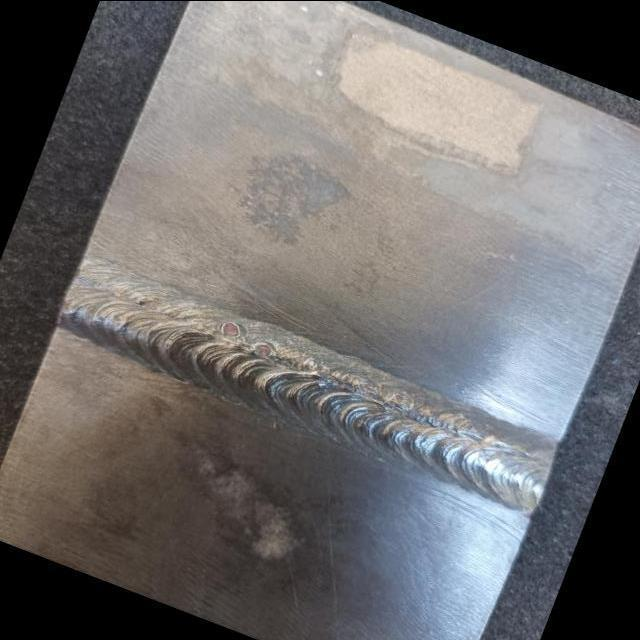defect: (215, 316, 244, 340), (248, 340, 277, 363), (353, 374, 378, 394), (386, 390, 410, 410), (132, 295, 148, 309)
